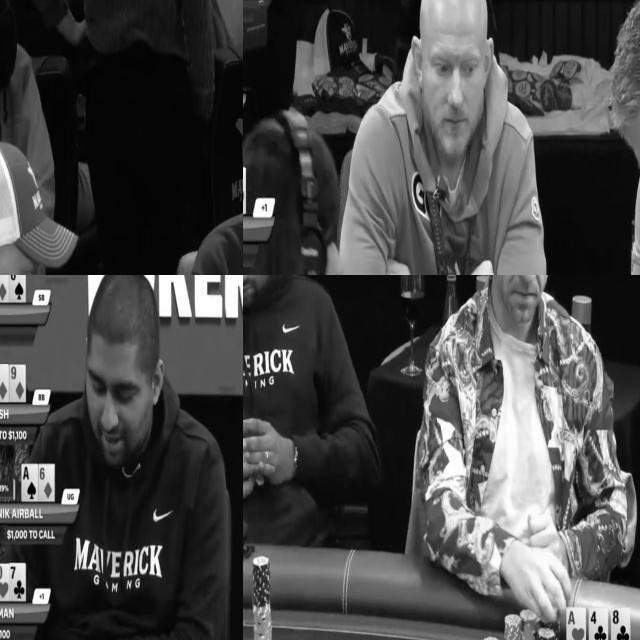10H: (0, 564, 9, 599)
4C: (589, 607, 608, 640)
6D: (39, 466, 55, 501)
6S: (9, 275, 25, 303)
7C: (10, 563, 26, 602)
8C: (612, 608, 630, 640)
9D: (10, 365, 24, 402)
AH: (567, 607, 586, 640)
AS: (21, 465, 38, 499)
JD: (0, 275, 9, 302)
QD: (0, 364, 8, 402)
